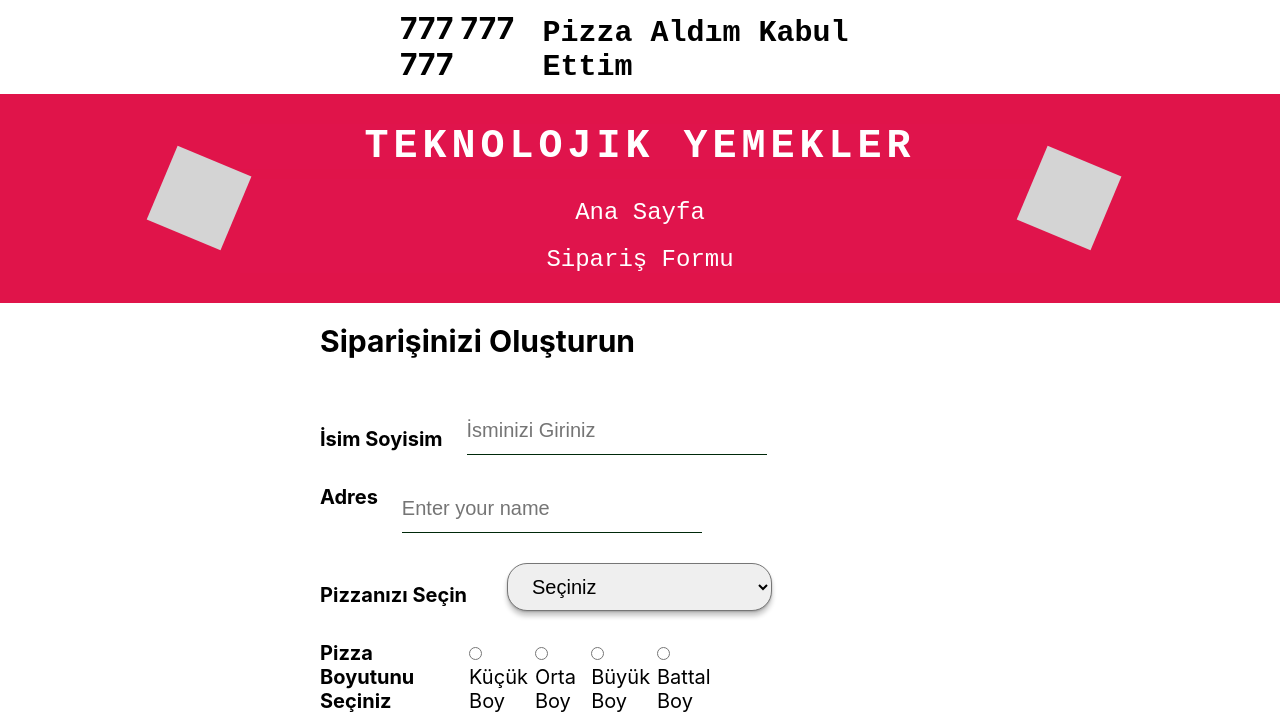
Test: Select False Form Control › Form Adress Control
Type "F" into the field with id "adres-input".
click(552, 509); type("F")  # box [402,485,702,533]
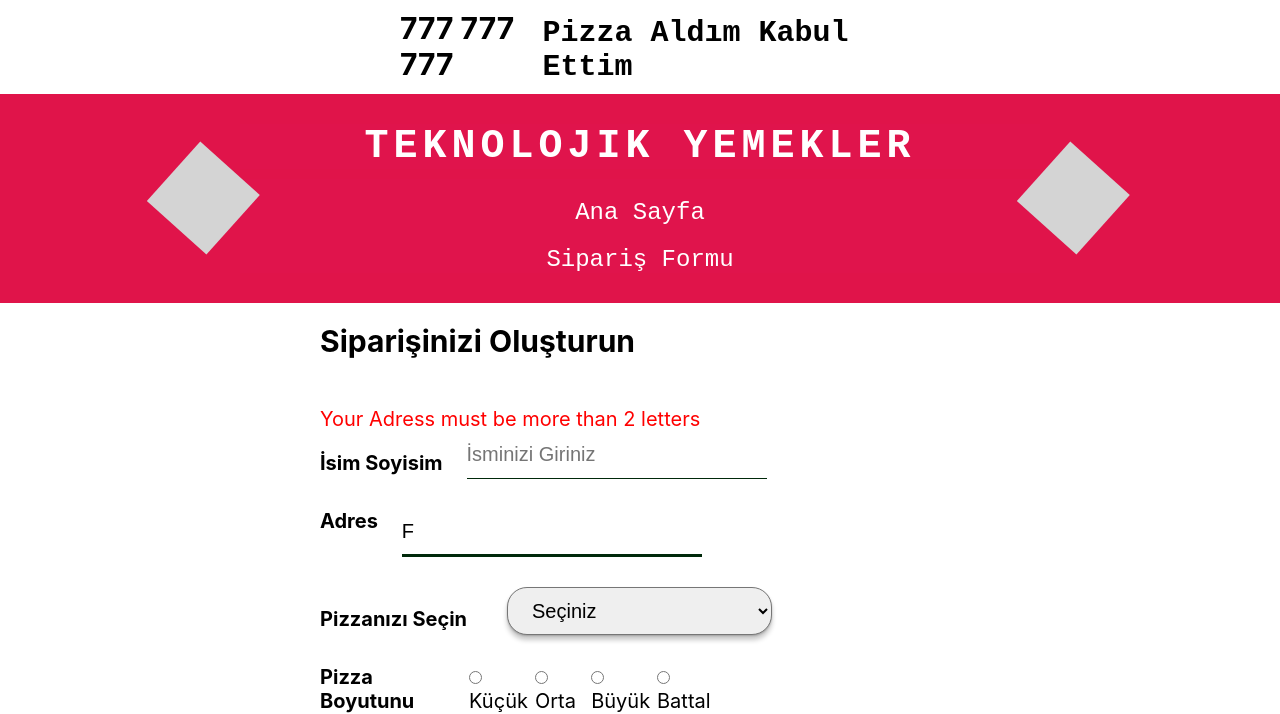
Check: the text with id "errAdress" reads "Your Adress must be more than 2 letters", box [320,407,700,431]
